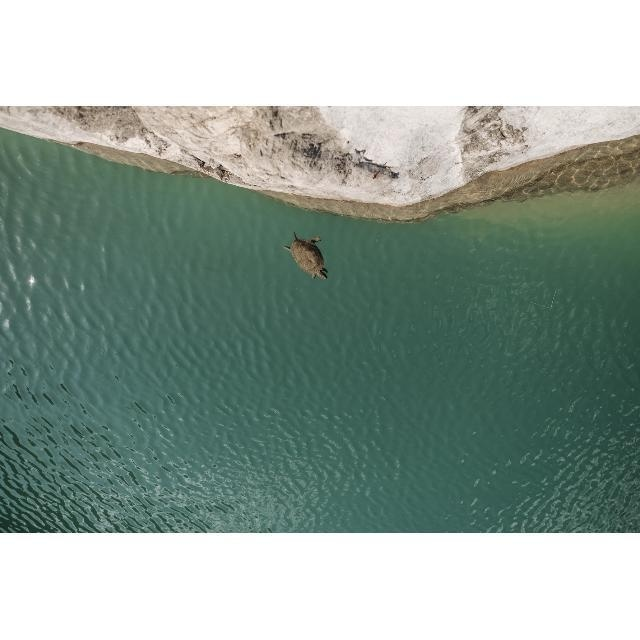turtle: (284, 232, 329, 281)
